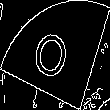O_S: (32, 23, 78, 87)
